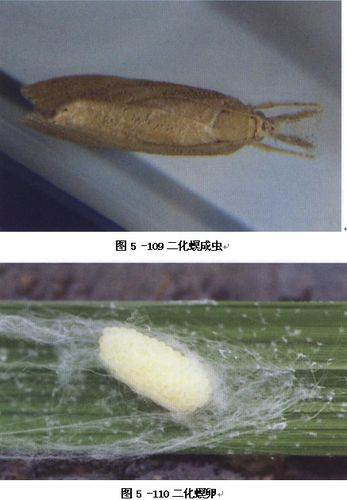Crambidae: (15, 72, 324, 165)
